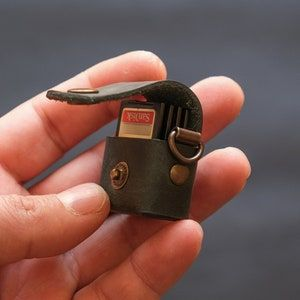cuero: (47, 80, 202, 220)
